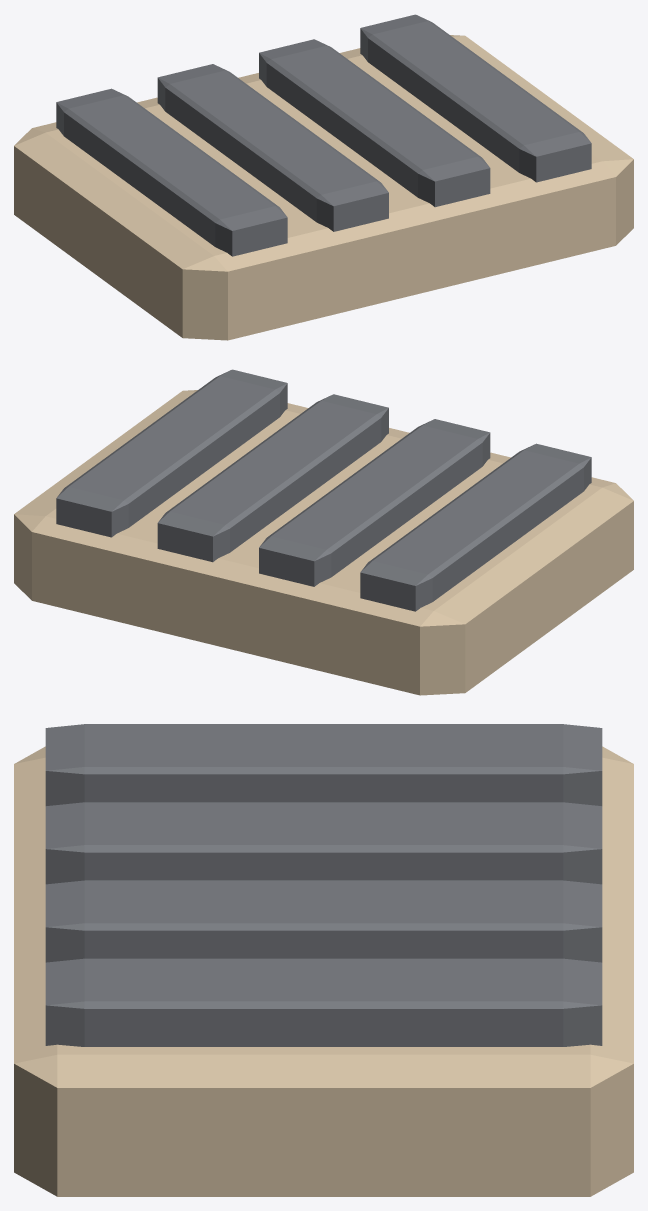
The model's file is b04_flattened_cardboard_tied_stack.glb.
The picture shows the model from 3 angles, top to bottom: view 1: azimuth 30°, elevation 25°; view 2: azimuth 150°, elevation 25°; view 3: azimuth 270°, elevation 25°; orthographic projection. The views are drawn at different scales.
Parts seen in each view (by area): view 1: b04_flattened_cardboard_tied_stack; view 2: b04_flattened_cardboard_tied_stack; view 3: b04_flattened_cardboard_tied_stack.
Part boxes in pixels (left/top/right/bottom): b04_flattened_cardboard_tied_stack: left=14, top=14, right=633, bottom=340; b04_flattened_cardboard_tied_stack: left=14, top=369, right=633, bottom=695; b04_flattened_cardboard_tied_stack: left=14, top=724, right=633, bottom=1196.
Bounding box in the file's own units: 0.646 × 0.146 × 0.486.
